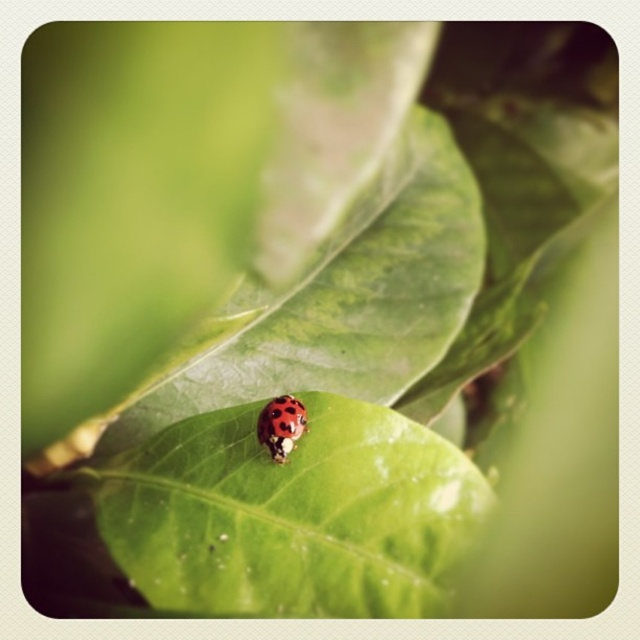Ladybug: (254, 395, 311, 468)
